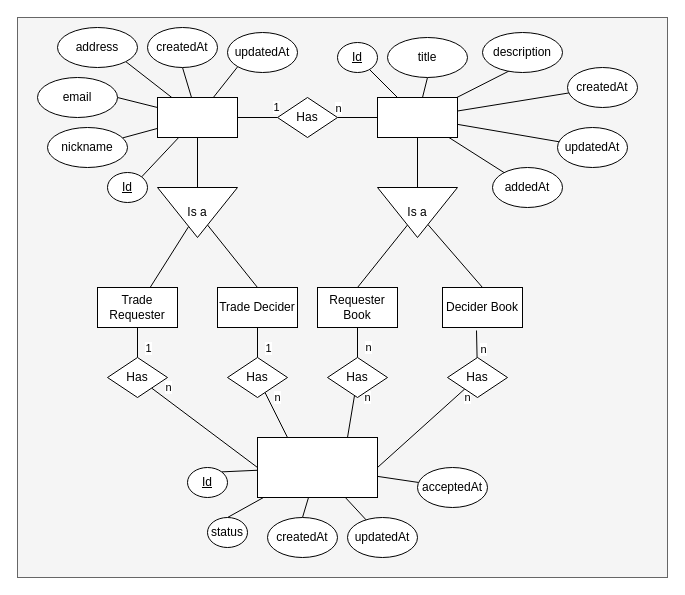
Image size: 685x595. Some labels were removed from this diagram. The shapes that lost their labels are listed below. From the top down, each one's box as (x1, y1, x2, y2) in pixels, then its label:
(156, 96, 238, 138): User
(376, 96, 458, 138): Book
(256, 436, 378, 498): Trade
